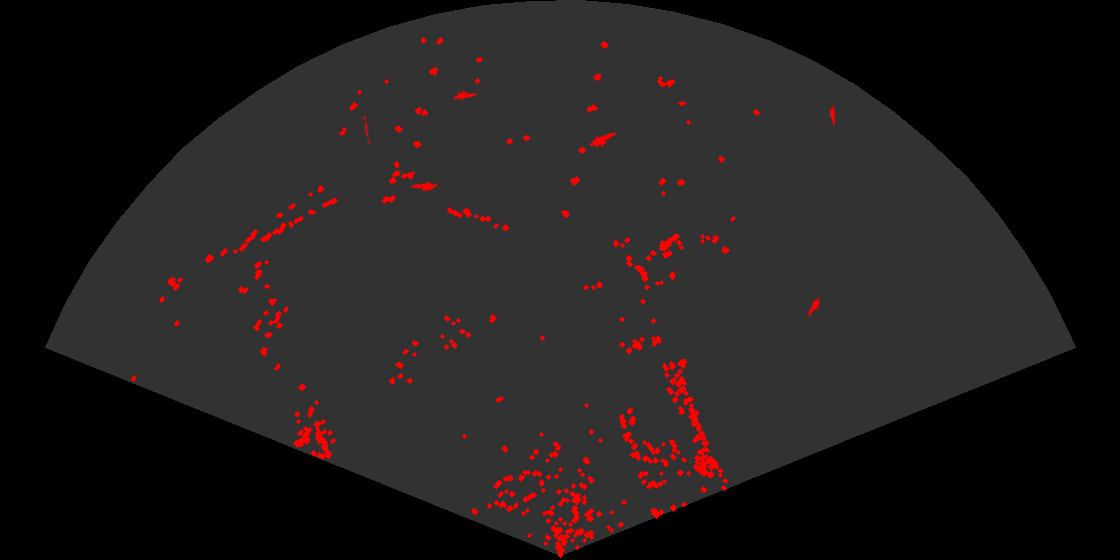chain: (361, 115, 371, 146)
frogman: (590, 130, 616, 149), (410, 180, 437, 194), (454, 89, 478, 102), (807, 298, 821, 318), (828, 106, 837, 125)
